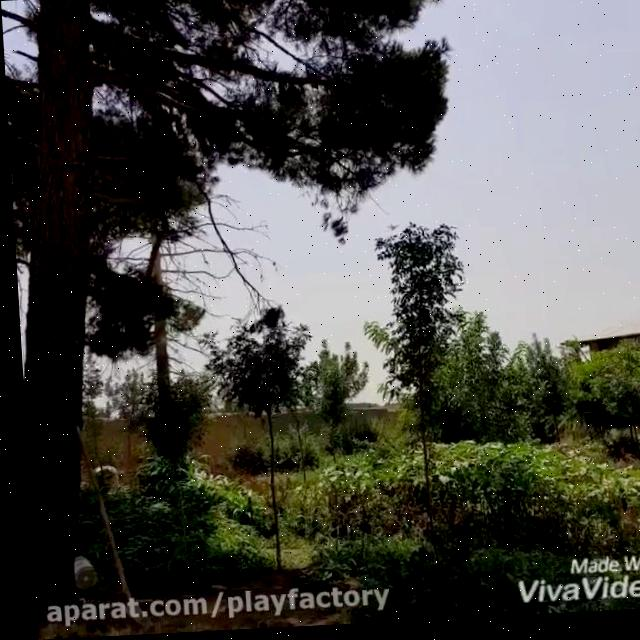drone: (377, 218, 401, 237)
